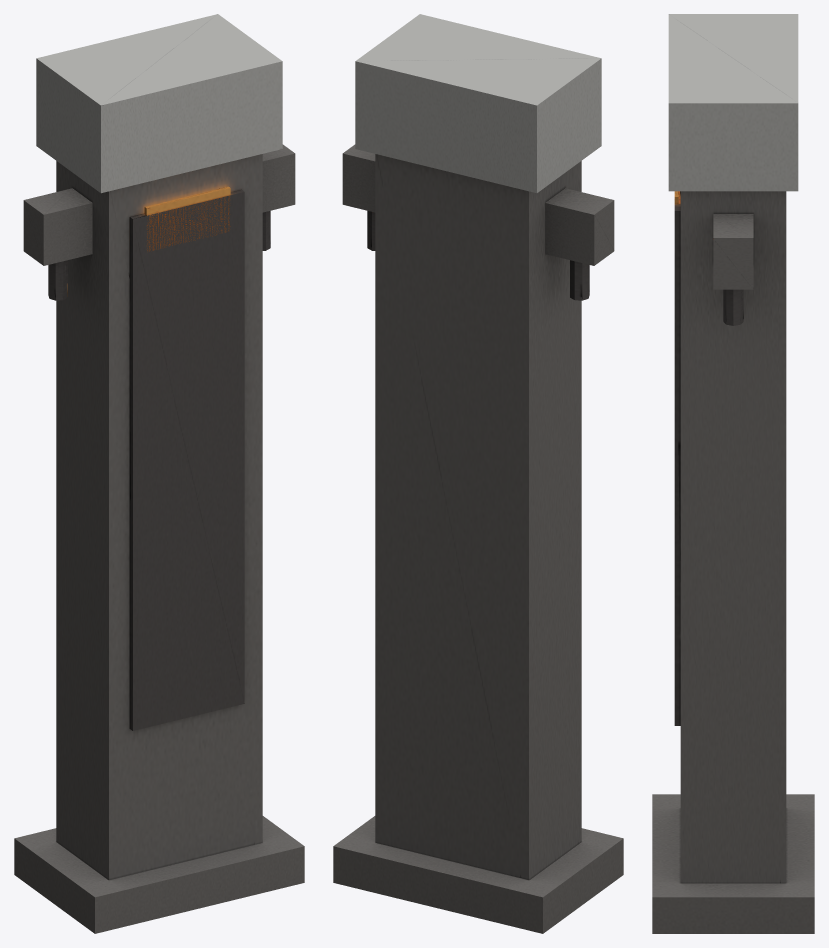
The model's file is pylon_script.glb.
The picture shows the model from 3 angles, left to right: view 1: azimuth 30°, elevation 25°; view 2: azimuth 150°, elevation 25°; view 3: azimuth 270°, elevation 25°; orthographic projection.
Visible parts, largest first — view 1: Cube; view 2: Cube; view 3: Cube.
Part boxes in pixels (left/top/right/bottom): Cube: left=14, top=14, right=304, bottom=933; Cube: left=333, top=14, right=623, bottom=933; Cube: left=652, top=14, right=814, bottom=933.
Size of the model in its own units: 7.2 by 22.4 by 4.
1 material, 1 textured.
